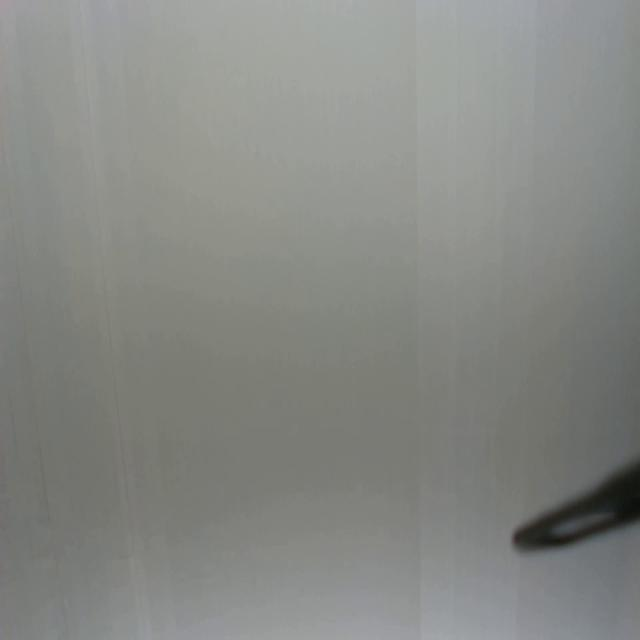crease: (79, 0, 148, 640), (1, 112, 71, 638), (8, 396, 20, 458)
